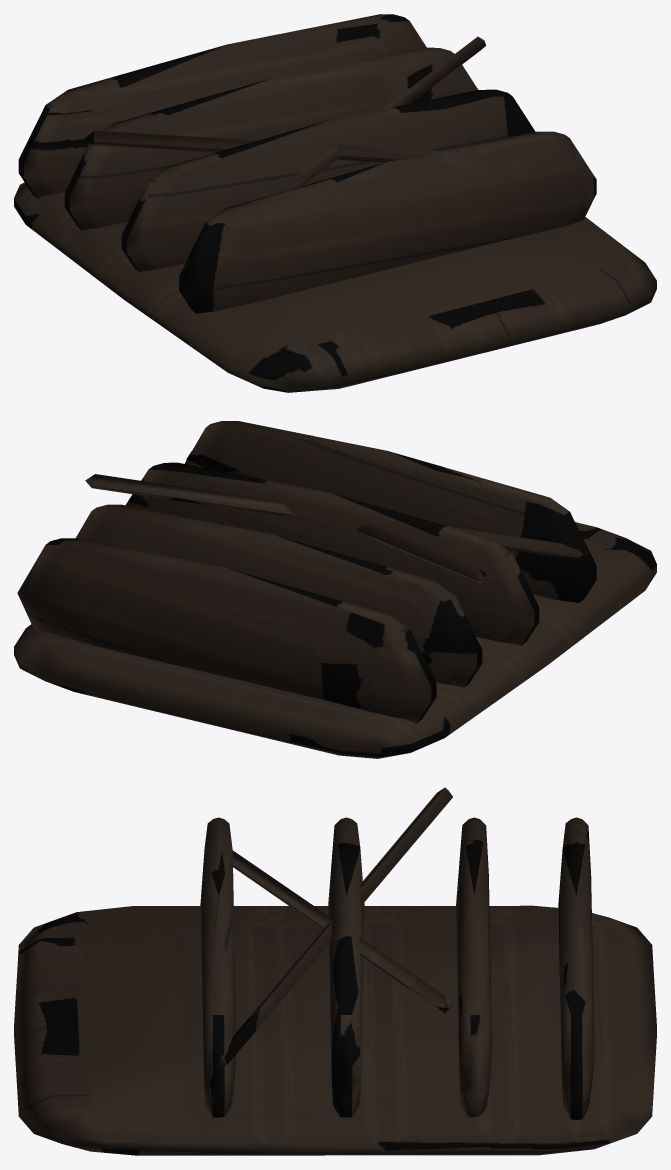
The model's file is Atalanta_SandaliaDer.fbx.
3 views of the same model, one above another, from view 1: azimuth 30°, elevation 25°; view 2: azimuth 150°, elevation 25°; view 3: azimuth 270°, elevation 25° (orthographic). The views are drawn at different scales.
Visible parts, largest first — view 1: Atalanta_SandaliaDer; view 2: Atalanta_SandaliaDer; view 3: Atalanta_SandaliaDer.
Part boxes in pixels (bbox=[...]): Atalanta_SandaliaDer: bbox=[14, 14, 656, 392]; Atalanta_SandaliaDer: bbox=[14, 421, 656, 758]; Atalanta_SandaliaDer: bbox=[14, 787, 656, 1155].
Bounding box in the file's own units: 1.07 × 0.3654 × 1.26.
